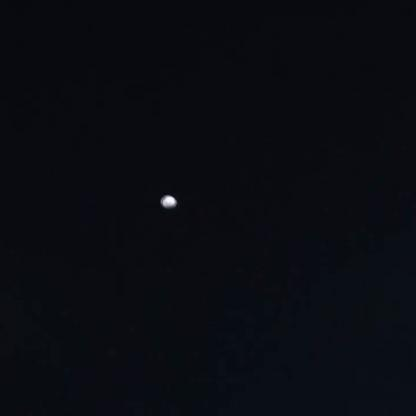ball: (153, 190, 185, 206)
